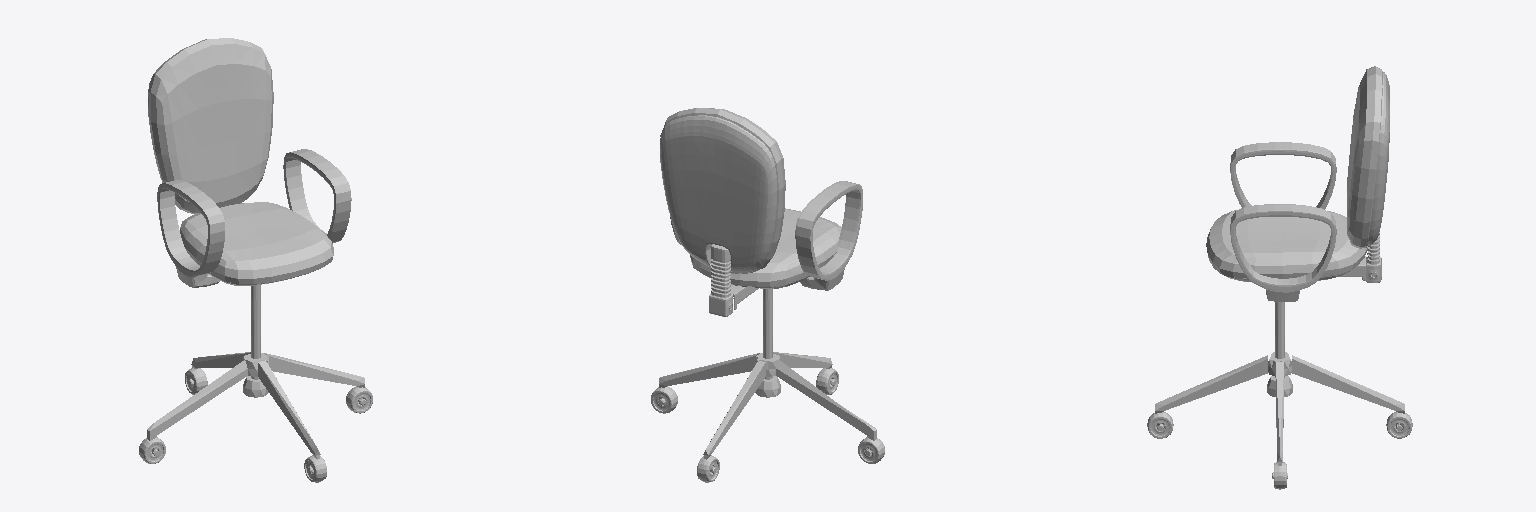
The model's file is chair-high.obj.
3 renders of one model, left to right at view 1: azimuth 30°, elevation 25°; view 2: azimuth 150°, elevation 25°; view 3: azimuth 270°, elevation 25°, orthographic.
Visible parts, largest first — view 1: chair-high_Material.033, chair-high_Material.034; view 2: chair-high_Material.033, chair-high_Material.034; view 3: chair-high_Material.033, chair-high_Material.034.
Part boxes in pixels (bbox=[...]): chair-high_Material.033: bbox=[139, 38, 372, 482]; chair-high_Material.034: bbox=[147, 285, 364, 459]; chair-high_Material.033: bbox=[651, 108, 884, 482]; chair-high_Material.034: bbox=[659, 285, 876, 459]; chair-high_Material.033: bbox=[1147, 66, 1412, 489]; chair-high_Material.034: bbox=[1155, 256, 1404, 465].
Bounding box in the file's own units: 38.33 × 57.99 × 38.33.